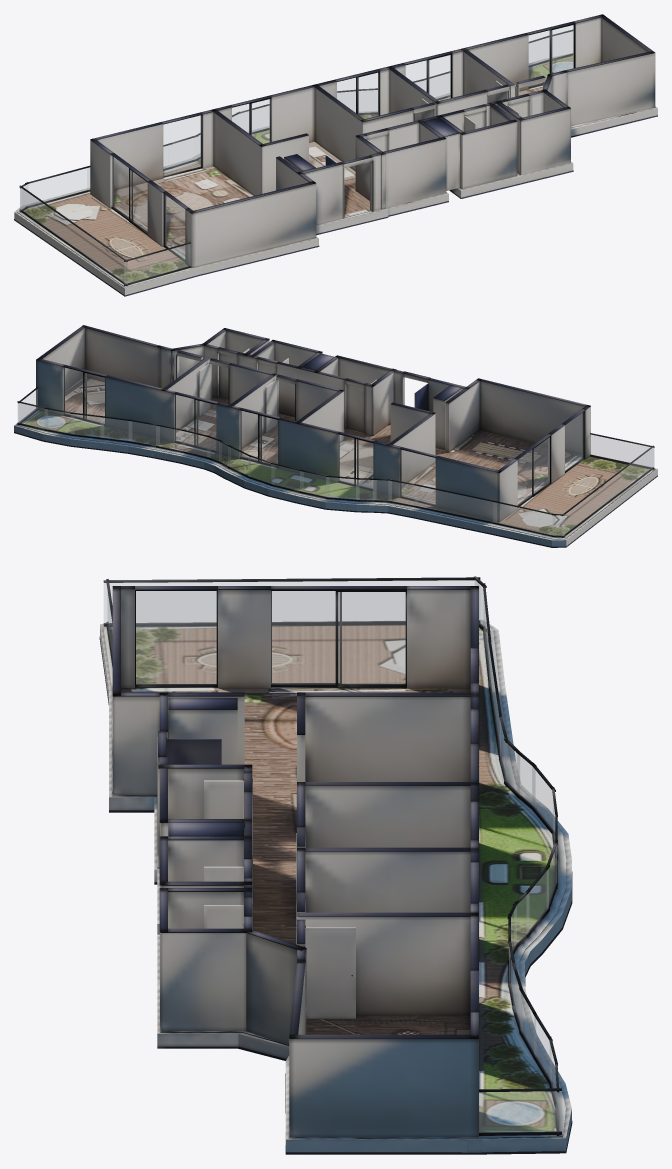
The picture shows the model from 3 angles, top to bottom: view 1: azimuth 30°, elevation 25°; view 2: azimuth 150°, elevation 25°; view 3: azimuth 270°, elevation 25°; orthographic projection. The views are drawn at different scales.
Visible parts, largest first — view 1: plan, railg22_m, glass2_m, glass6_m, glass0_m, railg0_m, glass5_m, glass4_m, railg20_m, glass3_m, glass1_m, railg5_m (+2 smaller); view 2: plan, railg22_m, glass6_m, railg1_m, glass5_m, glass4_m, glass2_m, glass3_m, glass0_m, railg20_m, railg0_m, glass1_m (+16 smaller); view 3: plan, glass0_m, railg22_m, glass1_m, railg2_m, railg14_m, railg17_m.
Boxes of the visible parts, bbox=[...] form: plan: bbox=[14, 14, 657, 296]; railg22_m: bbox=[20, 188, 127, 283]; glass2_m: bbox=[163, 115, 200, 175]; glass6_m: bbox=[529, 25, 573, 86]; glass0_m: bbox=[112, 156, 147, 231]; railg0_m: bbox=[124, 244, 190, 283]; glass5_m: bbox=[406, 55, 450, 100]; glass4_m: bbox=[337, 73, 378, 118]; railg20_m: bbox=[26, 168, 89, 205]; glass3_m: bbox=[232, 99, 269, 143]; glass1_m: bbox=[165, 195, 184, 259]; railg5_m: bbox=[172, 137, 197, 165]; plan: bbox=[14, 325, 657, 547]; railg22_m: bbox=[562, 448, 652, 535]; glass6_m: bbox=[64, 367, 104, 421]; railg1_m: bbox=[415, 486, 496, 522]; glass5_m: bbox=[175, 395, 215, 450]; glass4_m: bbox=[240, 411, 277, 463]; glass2_m: bbox=[401, 450, 435, 503]; glass3_m: bbox=[338, 435, 372, 488]; glass0_m: bbox=[518, 437, 549, 505]; railg20_m: bbox=[493, 502, 555, 535]; railg0_m: bbox=[590, 435, 654, 467]; glass1_m: bbox=[565, 412, 583, 470]; plan: bbox=[99, 576, 572, 1154]; glass0_m: bbox=[271, 591, 405, 684]; railg22_m: bbox=[104, 580, 479, 623]; glass1_m: bbox=[136, 591, 216, 684]; railg2_m: bbox=[479, 1091, 561, 1132]; railg14_m: bbox=[526, 869, 548, 934]; railg17_m: bbox=[532, 766, 554, 832].
Bounding box in the file's own units: 25.46 × 2.62 × 9.78.
2 materials, 1 textured.
